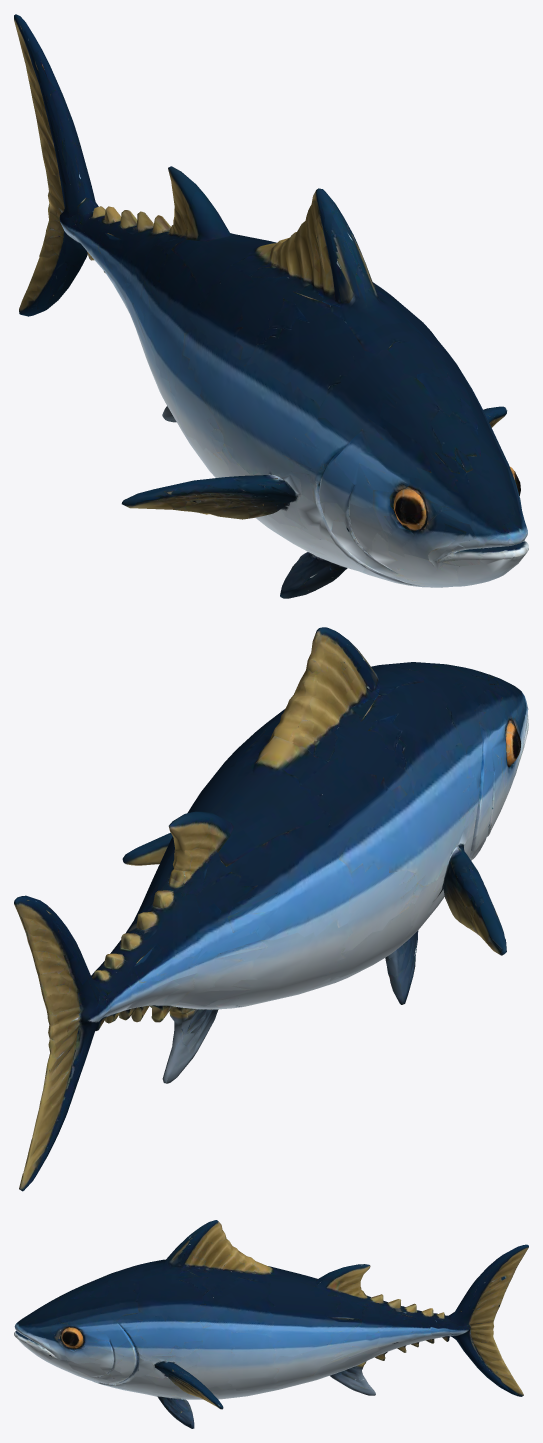
File: upm_mu5yhir26te.glb
The picture shows the model from 3 angles, top to bottom: view 1: azimuth 30°, elevation 25°; view 2: azimuth 150°, elevation 25°; view 3: azimuth 270°, elevation 25°; orthographic projection. The views are drawn at different scales.
Size of the model in its own units: 0.8378 by 0.7891 by 1.9.
Materials: 1 (1 with a texture image).
